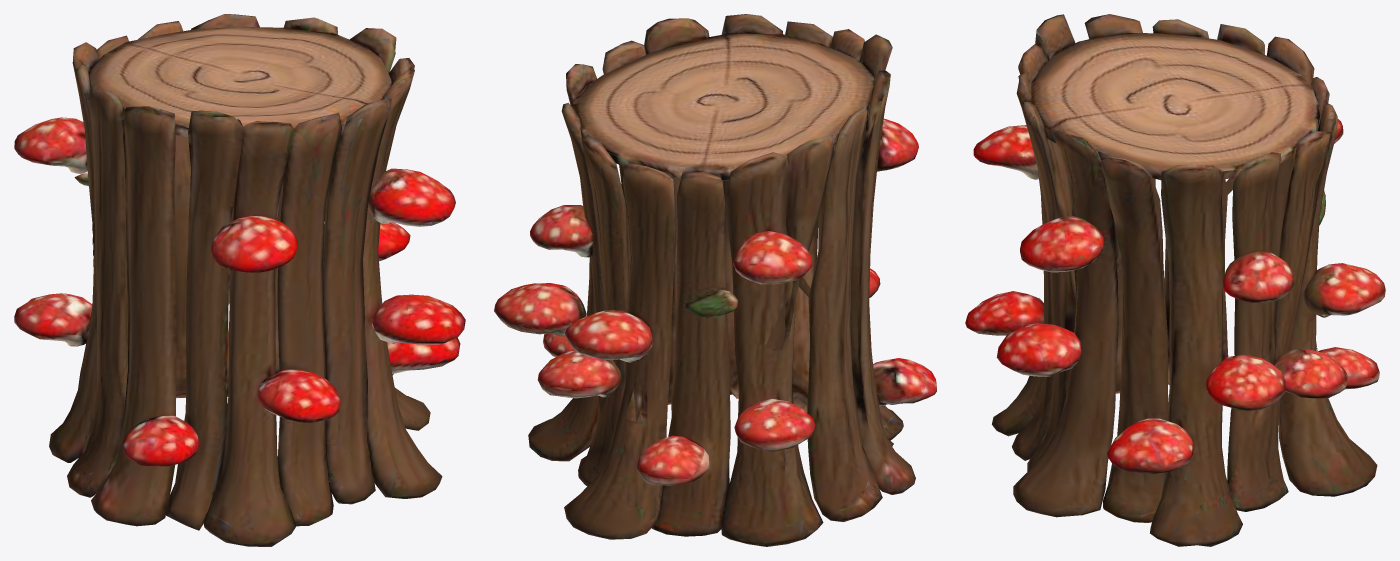
Rendered from jd_tronco.glb.
3 views of the same model, side by side, from view 1: azimuth 30°, elevation 25°; view 2: azimuth 150°, elevation 25°; view 3: azimuth 270°, elevation 25° (orthographic). The views are drawn at different scales.
Visible parts, largest first — view 1: mesh_node.002; view 2: mesh_node.002; view 3: mesh_node.002.
Part boxes in pixels (x1,y1,x2,y2): mesh_node.002: (14,14,465,546); mesh_node.002: (494,14,936,546); mesh_node.002: (965,14,1385,546).
Size of the model in its own units: 0.2346 by 0.2593 by 0.2476.
1 material, 1 textured.
